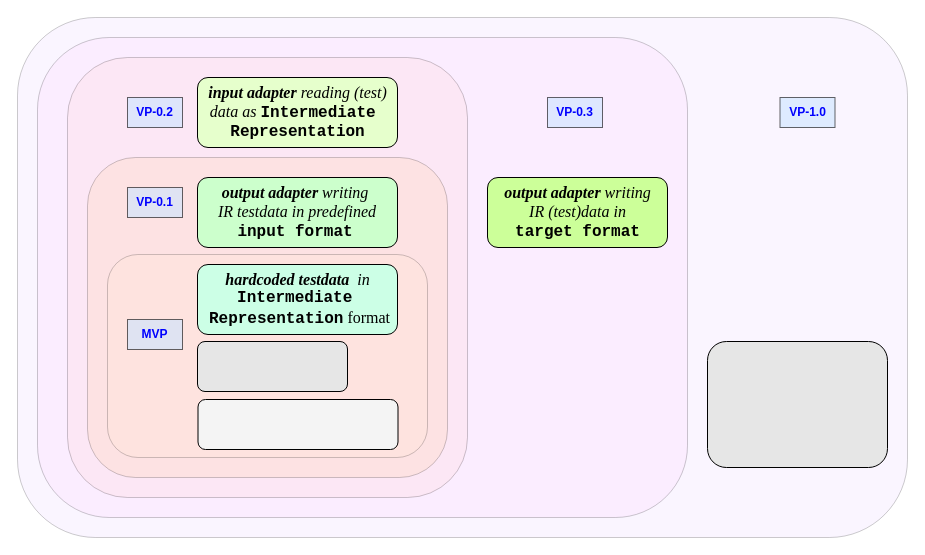
Image size: 925x555. Some labels were removed from this diagram. Here are the shapes that lost their labels. From the top down, the box of each, then its label:
(196, 340, 348, 392): initially empty only 'speaking' functions
(197, 398, 398, 450): basic control flow in the main section
(706, 340, 888, 468): complex control flow offering selectable IO target format s to the users
